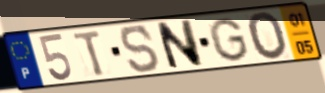5: (36, 32, 73, 82)
G: (206, 16, 251, 63)
N: (153, 18, 205, 72)
O: (246, 10, 290, 63)
S: (119, 24, 162, 75)
T: (71, 28, 108, 78)
